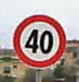limite 40: (12, 13, 66, 70)
